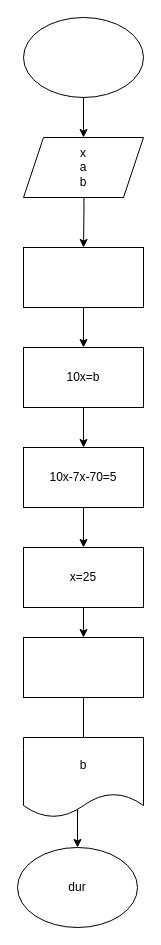
Some shapes in this 161 by 945 pixel diagram are drawn without their labels. Each missing label, with the centre of its shape:
7x+70=a: the point at 83,277
b=250: the point at 83,667
başla: the point at 83,57
